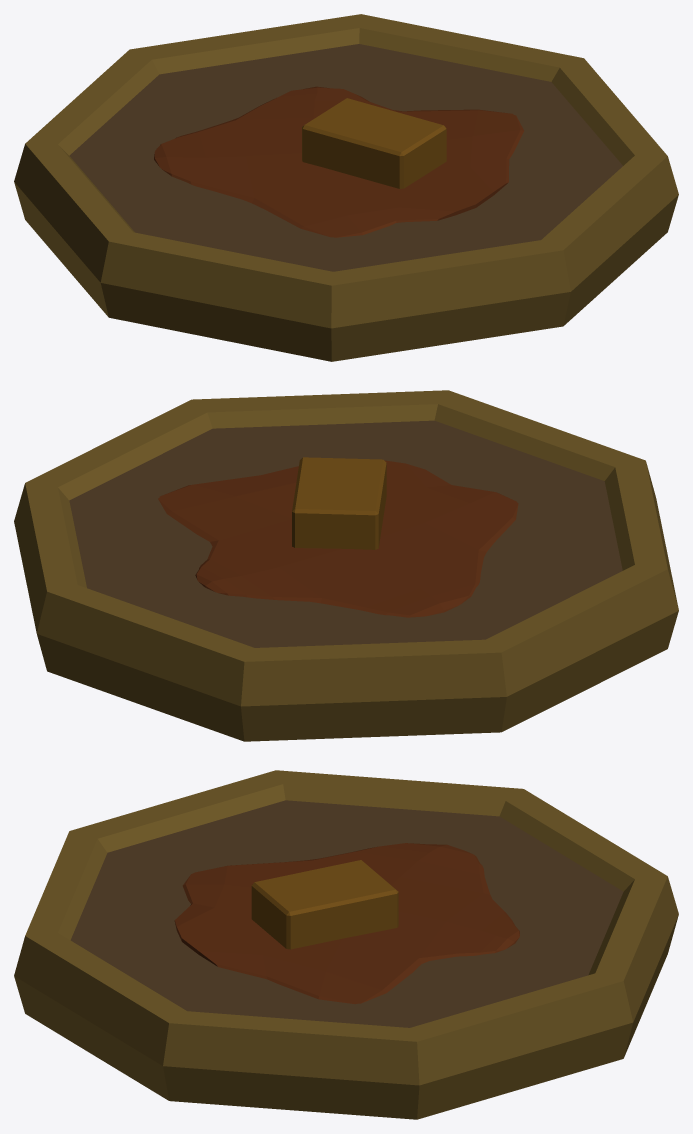
File: Pancake.obj
3 views of the same model, one above another, from view 1: azimuth 30°, elevation 25°; view 2: azimuth 150°, elevation 25°; view 3: azimuth 270°, elevation 25° (orthographic). The views are drawn at different scales.
Parts seen in each view (by area): view 1: Pancake_Cylinder.034; view 2: Pancake_Cylinder.034; view 3: Pancake_Cylinder.034.
Boxes of the visible parts, x1,y1,x2,y2 form: Pancake_Cylinder.034: (14,14,678,361); Pancake_Cylinder.034: (14,390,678,741); Pancake_Cylinder.034: (14,770,678,1119).
Size of the model in its own units: 1.44 by 0.2553 by 1.44.
